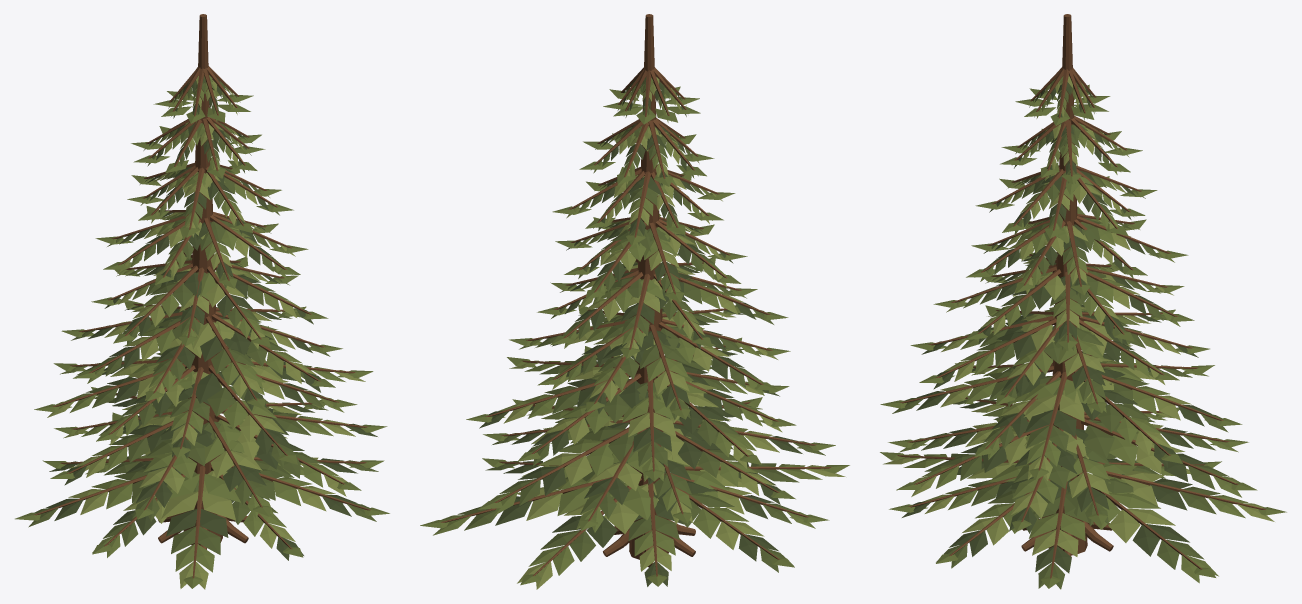
The model's file is pine-1.glb.
The picture shows the model from 3 angles, left to right: view 1: azimuth 30°, elevation 25°; view 2: azimuth 150°, elevation 25°; view 3: azimuth 270°, elevation 25°; orthographic projection. The views are drawn at different scales.
Parts seen in each view (by area): view 1: pine-1; view 2: pine-1; view 3: pine-1.
Boxes of the visible parts, box(x1,y1,x2,y2) form: pine-1: box(15, 14, 389, 589); pine-1: box(420, 14, 849, 589); pine-1: box(880, 14, 1286, 589).
Bounding box in the file's own units: 4.68 × 6.92 × 4.82.
